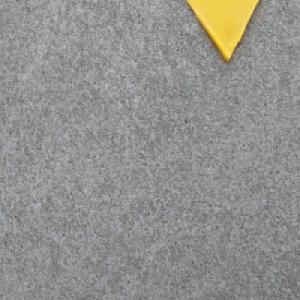PlasticPart: (184, 0, 262, 62)
